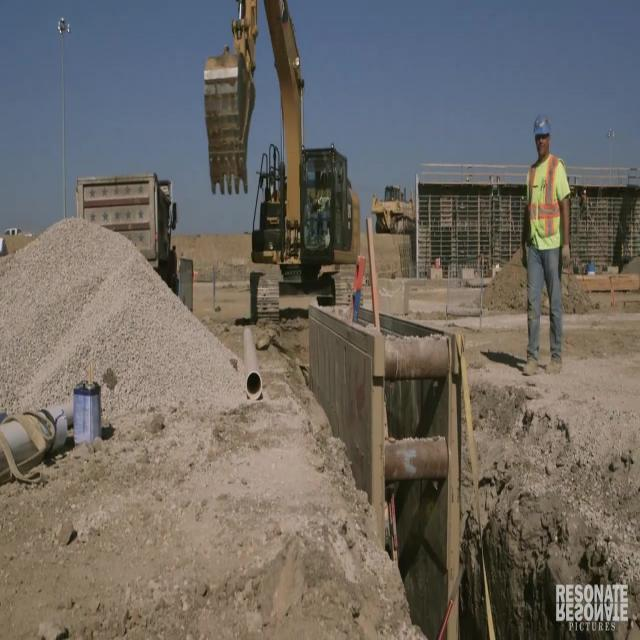Reflective-Jacket: (518, 149, 576, 263)
Safety-Helmet: (527, 106, 557, 148)
